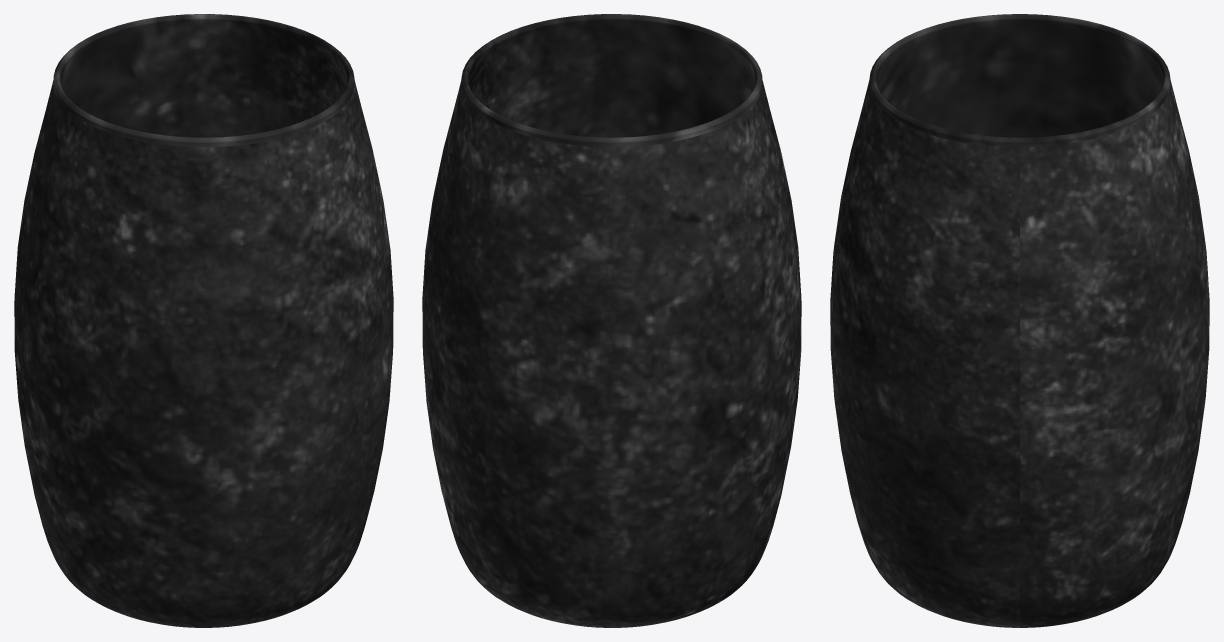
Rendered from SM_Water_Glass_01.fbx.
3 views of the same model, side by side, from view 1: azimuth 30°, elevation 25°; view 2: azimuth 150°, elevation 25°; view 3: azimuth 270°, elevation 25° (orthographic).
Parts seen in each view (by area): view 1: SM_Water_Glass_01; view 2: SM_Water_Glass_01; view 3: SM_Water_Glass_01.
Part boxes in pixels (box(x1,y1,x2,y2)): SM_Water_Glass_01: box(14, 14, 393, 627); SM_Water_Glass_01: box(422, 14, 801, 627); SM_Water_Glass_01: box(830, 14, 1209, 627).
Size of the model in its own units: 8.28 by 8.28 by 12.41.
Materials: 1 (1 with a texture image).
